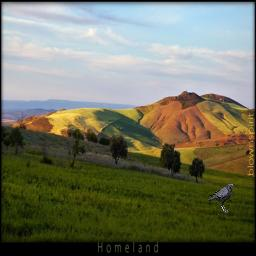Crow: (208, 183, 235, 213)
